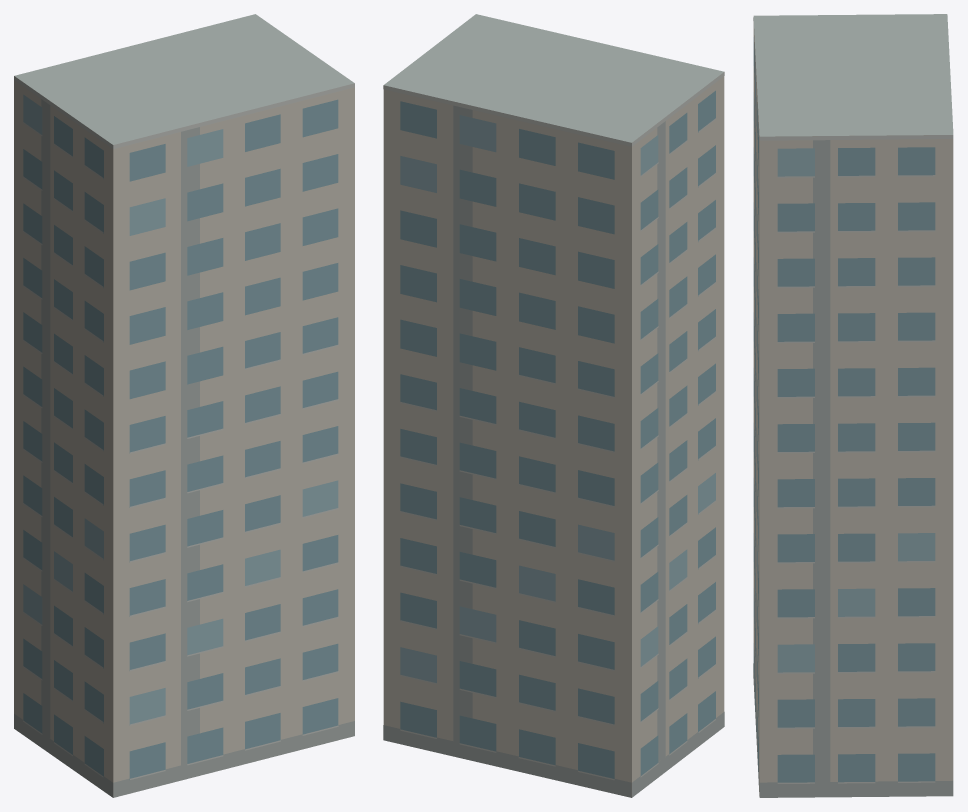
File: residential-6ede5970-367b-4328-8c3f-6315f41c6fb7.glb
3 views of the same model, side by side, from view 1: azimuth 30°, elevation 25°; view 2: azimuth 150°, elevation 25°; view 3: azimuth 270°, elevation 25° (orthographic).
Parts seen in each view (by area): view 1: residential-6ede5970-367b-4328-8c3f-6315f41c6fb7.tmp; view 2: residential-6ede5970-367b-4328-8c3f-6315f41c6fb7.tmp; view 3: residential-6ede5970-367b-4328-8c3f-6315f41c6fb7.tmp.
Part boxes in pixels (x1=…): residential-6ede5970-367b-4328-8c3f-6315f41c6fb7.tmp: x1=14, y1=14, x2=354, y2=797; residential-6ede5970-367b-4328-8c3f-6315f41c6fb7.tmp: x1=383, y1=14, x2=724, y2=797; residential-6ede5970-367b-4328-8c3f-6315f41c6fb7.tmp: x1=753, y1=14, x2=953, y2=797.
Size of the model in its own units: 15.52 by 39 by 10.7.
